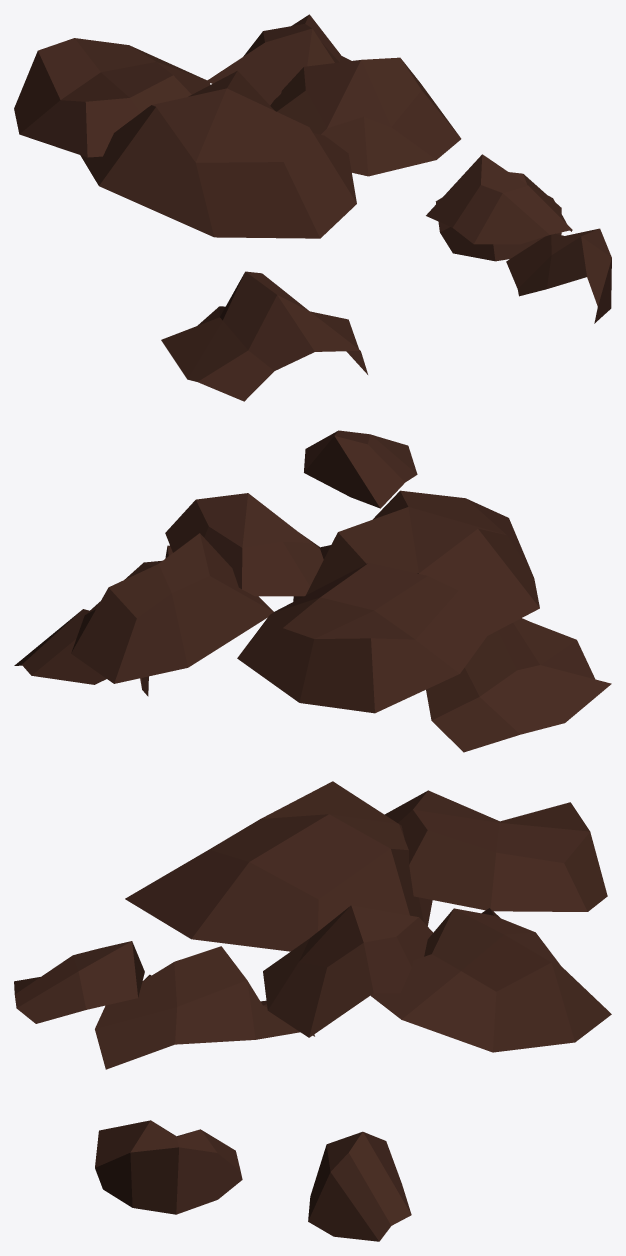
File: burrow.fbx
The picture shows the model from 3 angles, top to bottom: view 1: azimuth 30°, elevation 25°; view 2: azimuth 150°, elevation 25°; view 3: azimuth 270°, elevation 25°; orthographic projection. The views are drawn at different scales.
Parts seen in each view (by area): view 1: Cube.002, Cube.004, Cube, Cube.003, Cube.005, Cube.007, Cube.001, Cube.006; view 2: Cube, Cube.001, Cube.002, Cube.003, Cube.004, Cube.005, Cube.006; view 3: Cube.002, Cube.001, Cube, Cube.004, Cube.003, Cube.007, Cube.006, Cube.005.
Boxes of the visible parts, x1,y1,x2,y2 form: Cube.002: (80,71,356,238); Cube.004: (270,57,461,176); Cube: (14,38,210,157); Cube.003: (161,271,367,401); Cube.005: (426,154,572,244); Cube.007: (506,228,611,323); Cube.001: (207,14,351,105); Cube.006: (435,172,561,261); Cube: (237,563,502,713); Cube.001: (71,533,273,683); Cube.002: (293,490,539,635); Cube.003: (426,618,611,752); Cube.004: (165,493,323,596); Cube.005: (304,430,417,508); Cube.006: (14,609,148,696); Cube.002: (125,781,432,951); Cube.001: (370,908,611,1052); Cube: (384,790,607,911); Cube.004: (263,905,433,1037); Cube.003: (95,946,314,1069); Cube.007: (95,1120,242,1214); Cube.006: (308,1131,411,1241); Cube.005: (14,941,144,1023).
Bounding box in the file's own units: 473 × 216 × 470.
